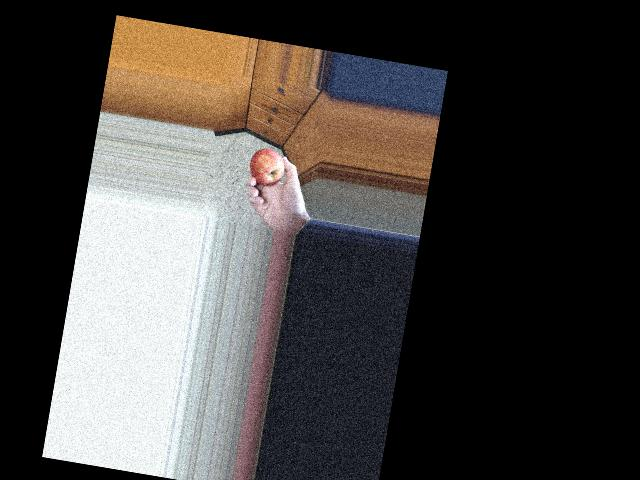apple: (245, 144, 293, 199)
